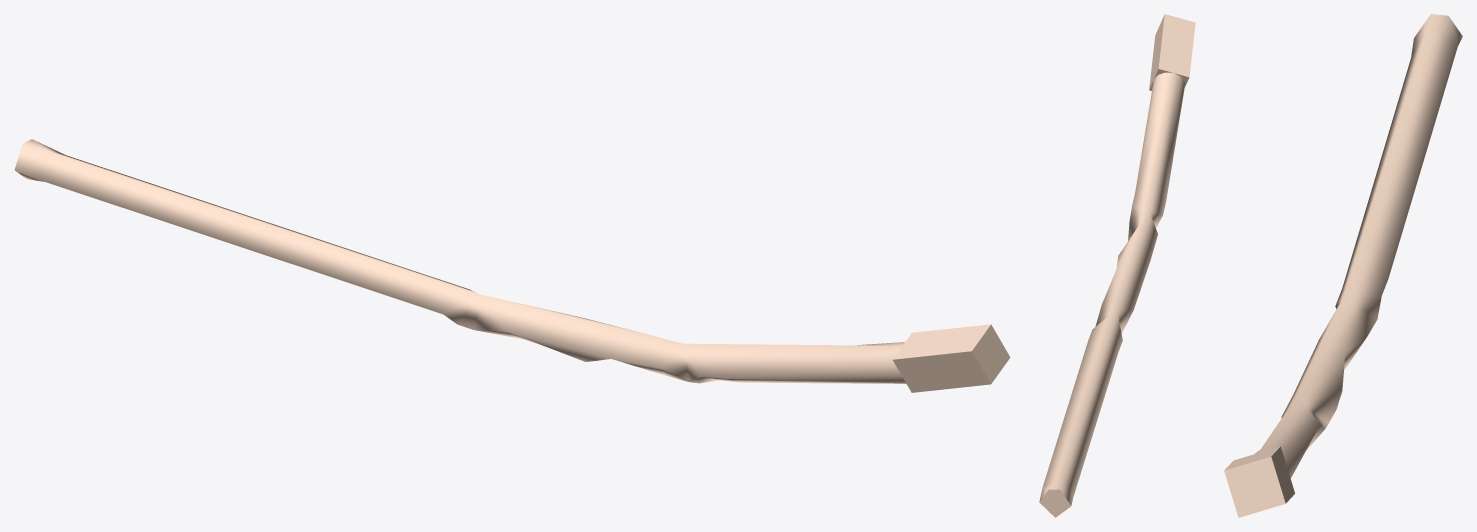
File: Marteau - tige_Quarts G.obj
3 renders of one model, left to right at view 1: azimuth 30°, elevation 25°; view 2: azimuth 150°, elevation 25°; view 3: azimuth 330°, elevation 25°, orthographic. The views are drawn at different scales.
Visible parts, largest first — view 1: Face_1, Face_8, Face_9, Face_12, Face_2; view 2: Face_1, Face_9, Face_3, Face_10, Face_2; view 3: Face_1, Face_12, Face_2, Face_10, Face_9.
Boxes of the visible parts, bbox=[...] form: Face_1: bbox=[42, 152, 906, 383]; Face_8: bbox=[893, 351, 990, 392]; Face_9: bbox=[893, 324, 990, 359]; Face_12: bbox=[972, 324, 1010, 383]; Face_2: bbox=[14, 139, 64, 182]; Face_1: bbox=[1043, 72, 1184, 497]; Face_9: bbox=[1158, 14, 1195, 77]; Face_3: bbox=[1039, 489, 1070, 517]; Face_10: bbox=[1149, 15, 1164, 89]; Face_2: bbox=[1039, 479, 1072, 505]; Face_1: bbox=[1255, 30, 1457, 478]; Face_12: bbox=[1224, 456, 1285, 517]; Face_2: bbox=[1411, 14, 1462, 57]; Face_10: bbox=[1271, 446, 1294, 503]; Face_9: bbox=[1224, 446, 1280, 470].
Size of the model in its own units: 0.0298 by 0.0105 by 0.0668.
